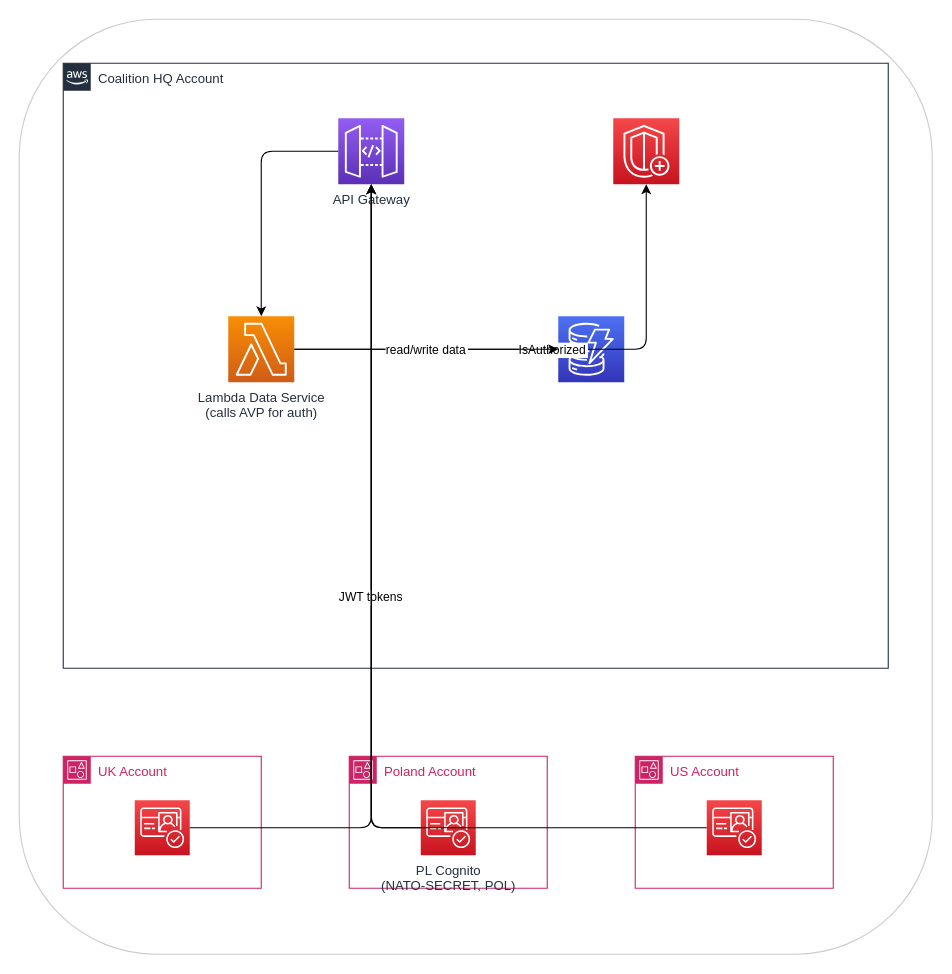
Some shapes in this 952 by 974 pixel diagram are drawn without their labels. Here are the shapes that lost their labels. From the top down, the box of each, then its label:
(612, 117, 679, 184): Amazon Verified Permissions (Cedar Policy Store)
(557, 315, 624, 382): DynamoDB Data Store (labeled items)
(134, 799, 190, 855): UK Cognito (SECRET, GBR, WALL)
(706, 799, 762, 855): US Cognito (IL-6, USA, WALL)
